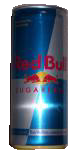grozi_61: (9, 4, 67, 149)
